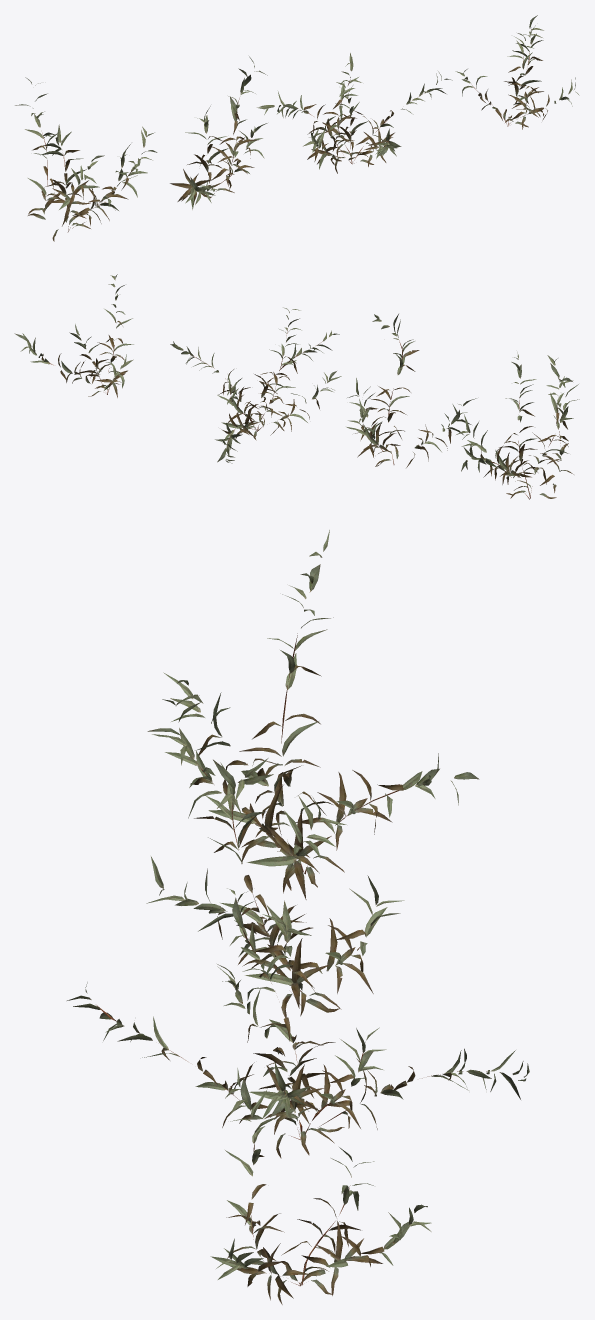
Rendered from shrub_02_1k_lo.glb.
3 views of the same model, one above another, from view 1: azimuth 30°, elevation 25°; view 2: azimuth 150°, elevation 25°; view 3: azimuth 270°, elevation 25° (orthographic). The views are drawn at different scales.
Visible parts, largest first — view 1: shrub_02_c, shrub_02_a, shrub_02_b, shrub_02_d; view 2: shrub_02_c, shrub_02_a, shrub_02_b, shrub_02_d; view 3: shrub_02_a, shrub_02_c, shrub_02_b, shrub_02_d.
Part boxes in pixels (bbox=[...]): shrub_02_c: bbox=[257, 53, 452, 173]; shrub_02_a: bbox=[15, 77, 157, 241]; shrub_02_b: bbox=[170, 56, 267, 209]; shrub_02_d: bbox=[455, 15, 579, 129]; shrub_02_c: bbox=[170, 307, 341, 463]; shrub_02_a: bbox=[456, 352, 579, 499]; shrub_02_b: bbox=[346, 314, 476, 467]; shrub_02_d: bbox=[14, 274, 133, 397]; shrub_02_a: bbox=[147, 530, 479, 899]; shrub_02_c: bbox=[67, 888, 529, 1158]; shrub_02_b: bbox=[146, 758, 404, 1017]; shrub_02_d: bbox=[210, 1068, 431, 1304].
Bounding box in the file's own units: 6.05 × 1.7 × 2.28.
1 material, 1 textured.
